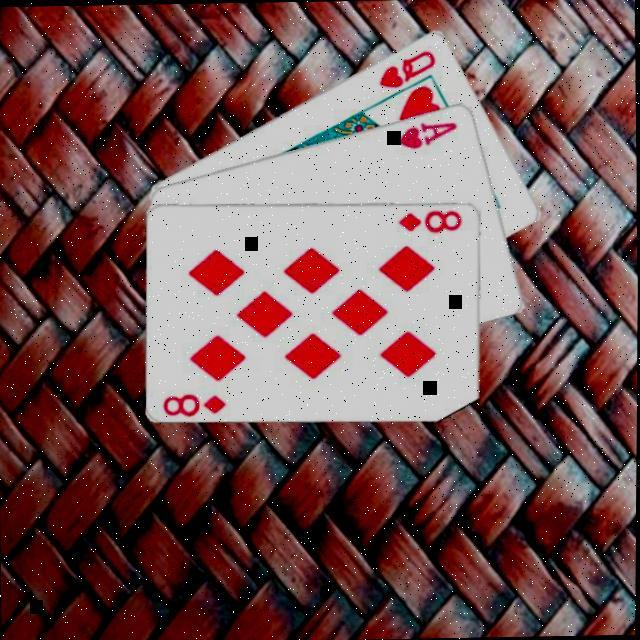8D: (397, 204, 466, 233), (163, 387, 232, 415)
AH: (396, 116, 463, 149)
QH: (375, 44, 440, 89)
